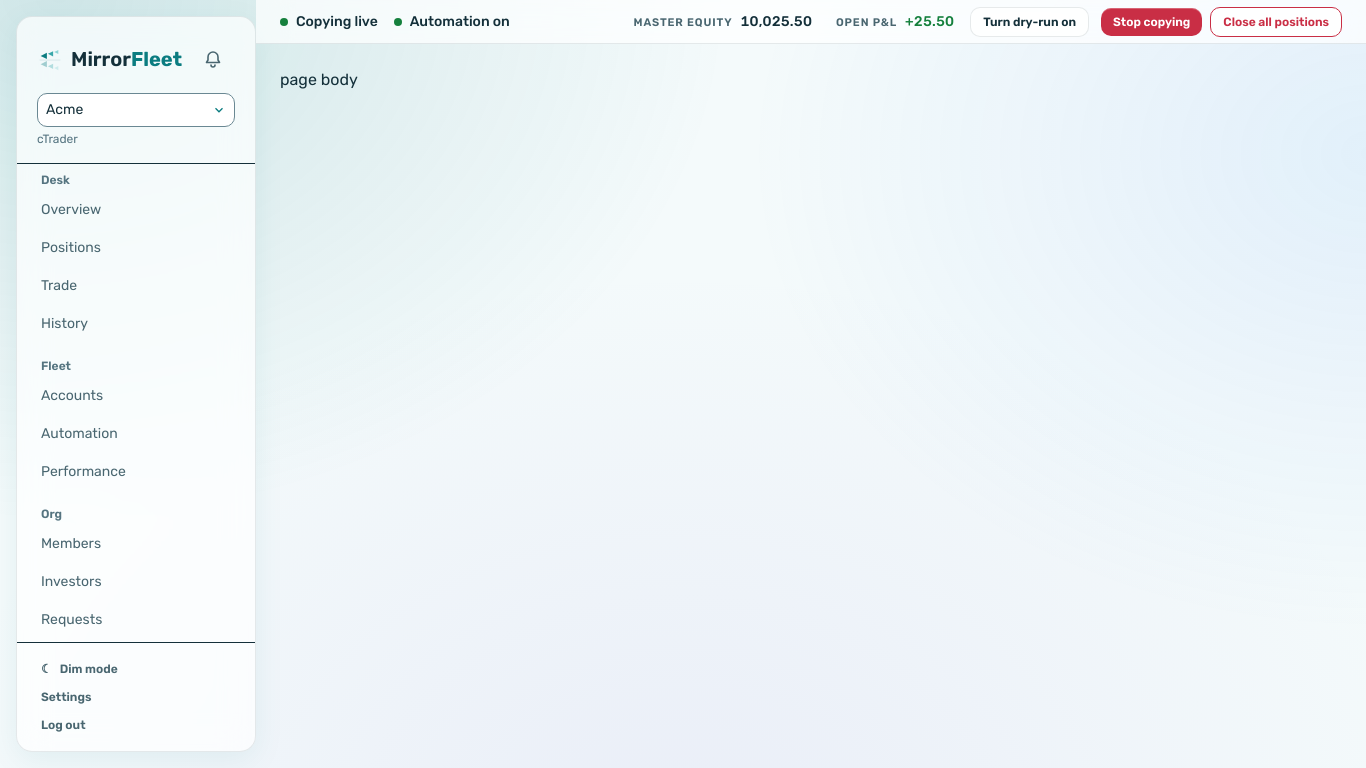
Test case: close-all requires the CLOSE ALL phrase before it will confirm
The image size is (1366, 768).
Click the button "Close all positions" at (1276, 22), box [1210, 6, 1342, 36]
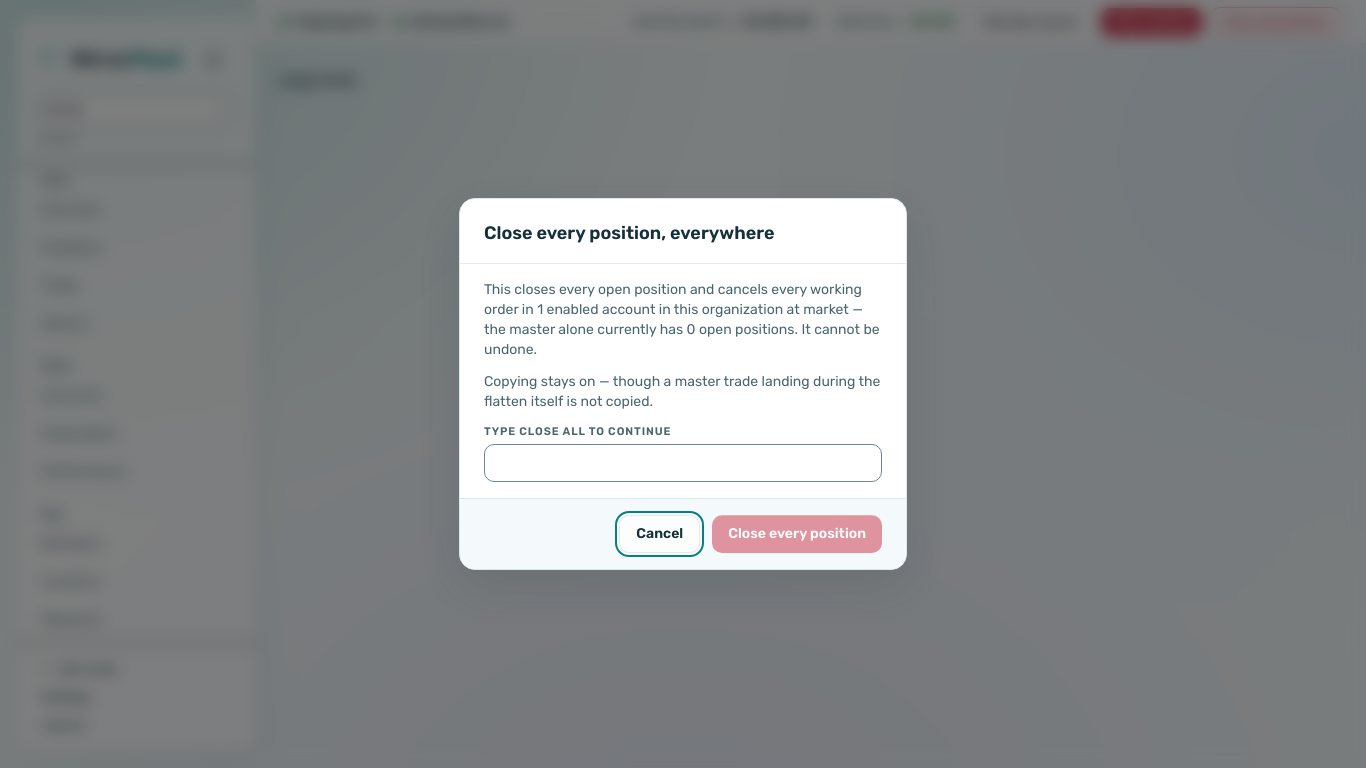
Check: the button "Close every position" is disabled, box [712, 515, 882, 553]
Type "CLOSE ALL" into the field labelled "Type CLOSE ALL to continue" at (683, 463), box [484, 444, 882, 482]
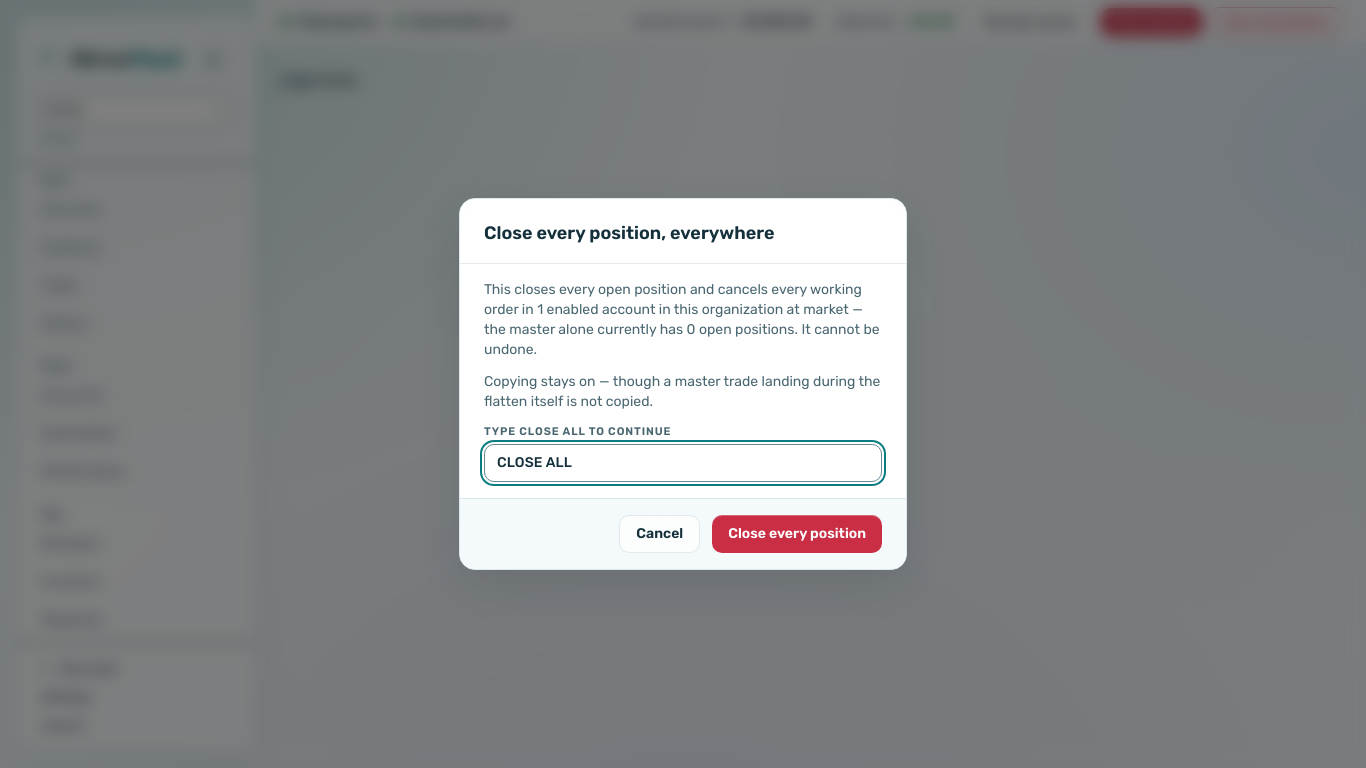
Check: the button "Close every position" is enabled
Click the button "Close every position" at (797, 534), box [712, 515, 882, 553]
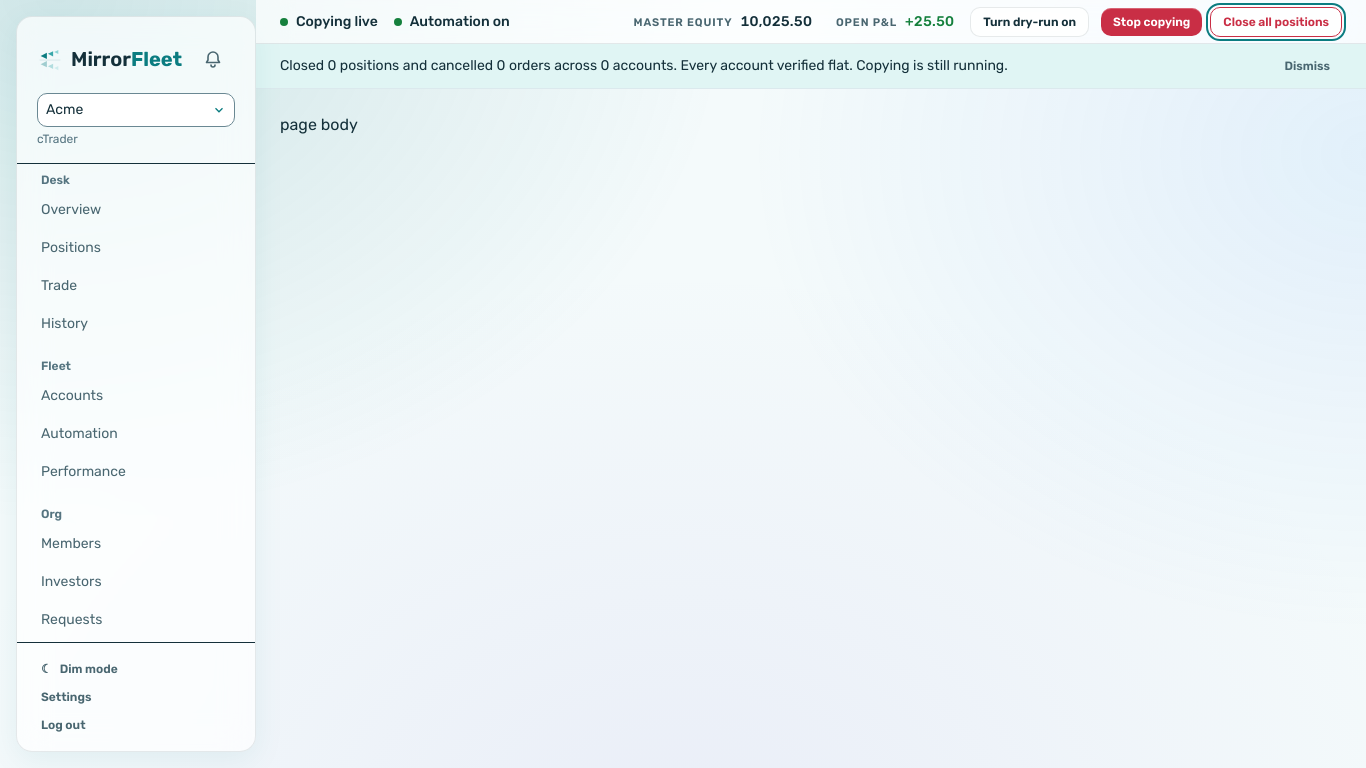
Check: the text "Copying is still running" is shown, box [280, 57, 1008, 74]
